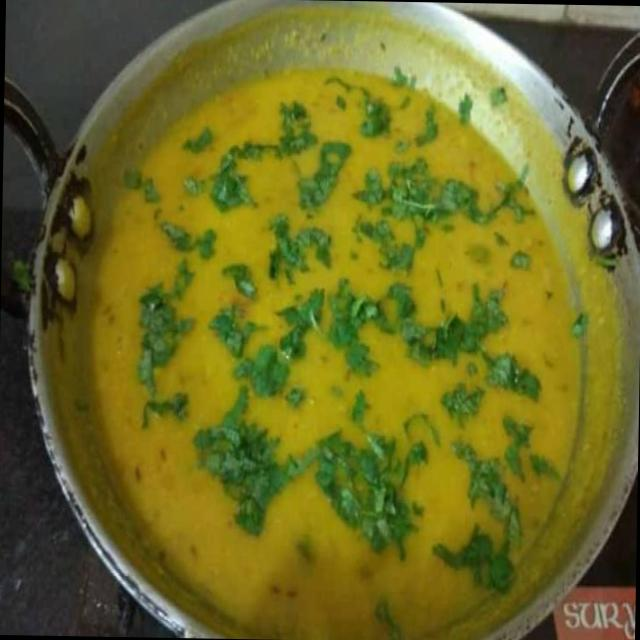dal: (89, 55, 586, 640)
